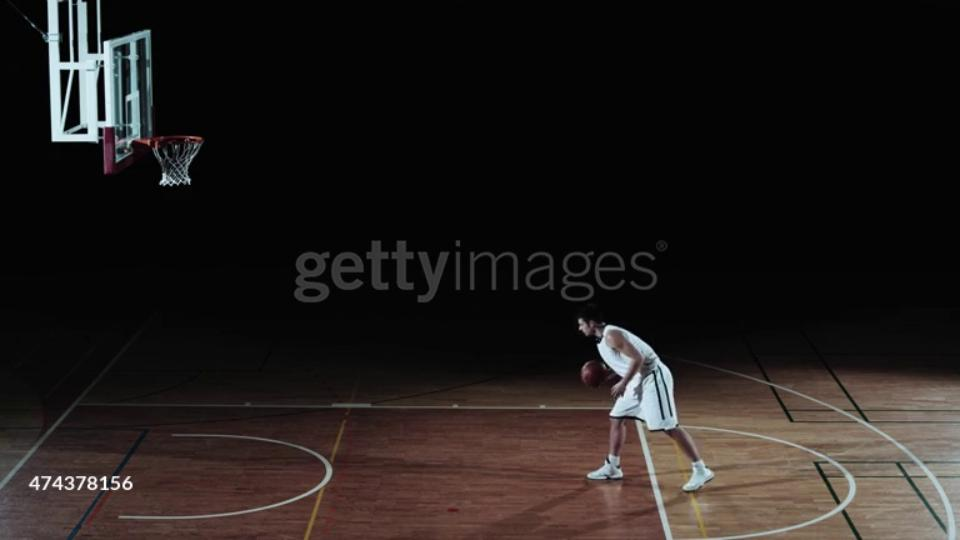hoop: (133, 127, 209, 153)
